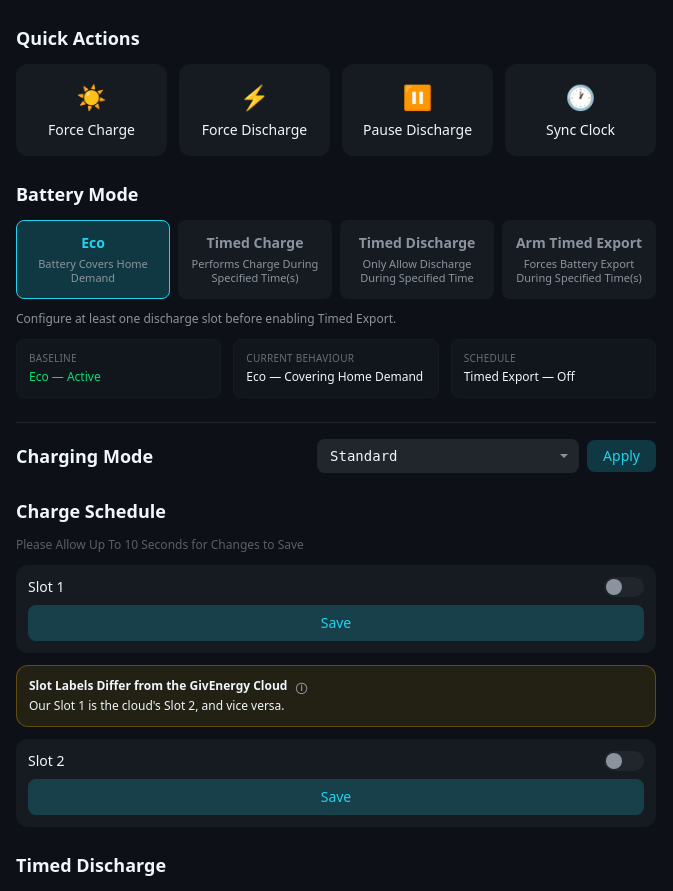
Scenario: <ControlPage/> — saves wait for the section to load › Agile thresholds › stays locked, and says why, when the load fails
This screenshot has width=673, height=891.
Select "Agile (Full)" in the dropdown at x=448, y=456, box x1=317 y1=439 x2=579 y2=473
(page scrolled)
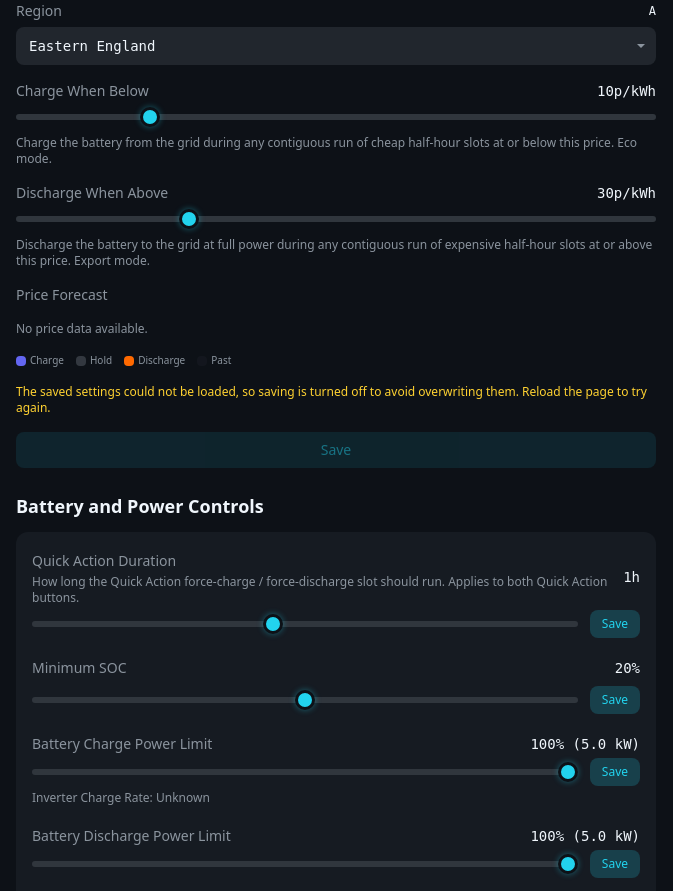
Expected: the text "saved settings could not be loaded" is shown, x1=16 y1=383 x2=647 y2=416
Expected: the button "Save" below "Past" is disabled, x1=16 y1=432 x2=656 y2=468
